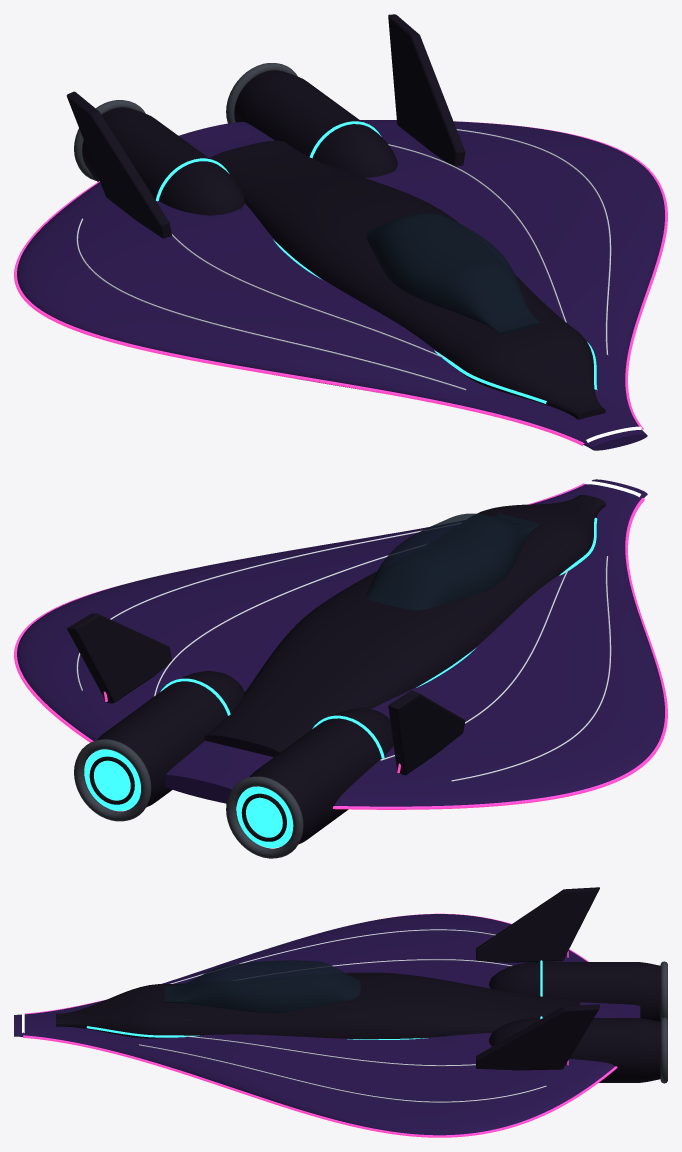
File: skat.glb
The picture shows the model from 3 angles, top to bottom: view 1: azimuth 30°, elevation 25°; view 2: azimuth 150°, elevation 25°; view 3: azimuth 270°, elevation 25°; orthographic projection. The views are drawn at different scales.
Visible parts, largest first — view 1: paint, paint2 (×3), glass, neon, chrome, gunmetal (×2), neon2; view 2: paint, paint2 (×3), glass, thrust (×2), gunmetal (×2), neon, chrome, carbon (×2); view 3: paint, paint2 (×3), glass, neon, chrome, gunmetal (×2), neon2.
Part boxes in pixels (left/top/right/bottom): paint: left=17, top=120, right=664, bottom=450; paint2 (×3): left=66, top=14, right=605, bottom=419; glass: left=366, top=213, right=540, bottom=334; neon: left=14, top=121, right=667, bottom=445; chrome: left=76, top=129, right=611, bottom=390; gunmetal (×2): left=74, top=63, right=297, bottom=180; neon2: left=273, top=239, right=597, bottom=403; paint: left=17, top=479, right=664, bottom=806; paint2 (×3): left=66, top=495, right=605, bottom=844; glass: left=366, top=513, right=540, bottom=610; thrust (×2): left=84, top=678, right=384, bottom=847; gunmetal (×2): left=74, top=739, right=303, bottom=858; neon: left=14, top=483, right=667, bottom=809; chrome: left=76, top=530, right=611, bottom=781; carbon (×2): left=89, top=756, right=286, bottom=841; paint: left=14, top=914, right=640, bottom=1135; paint2 (×3): left=56, top=887, right=660, bottom=1082; glass: left=164, top=960, right=360, bottom=1012; neon: left=23, top=913, right=617, bottom=1137; chrome: left=139, top=929, right=546, bottom=1102; gunmetal (×2): left=660, top=961, right=667, bottom=1083; neon2: left=86, top=1026, right=427, bottom=1039.
Bounding box in the file's own units: 4.37 × 0.9791 × 5.43.
